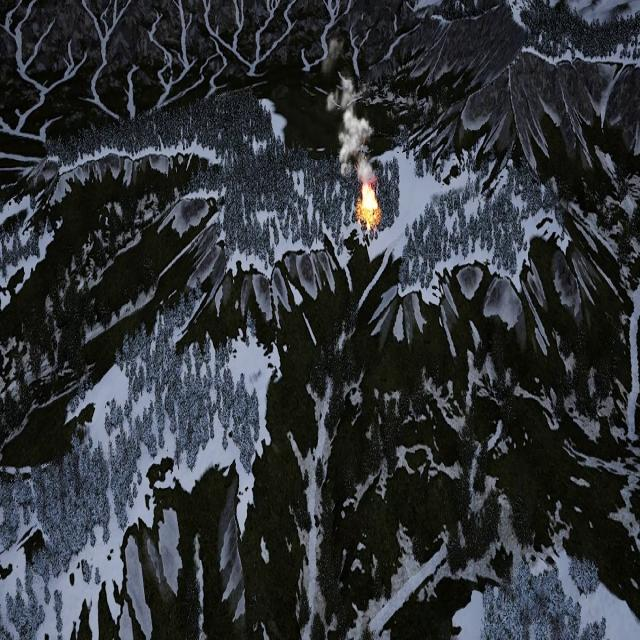fire: (358, 182, 379, 225)
smoke: (326, 76, 376, 183)
